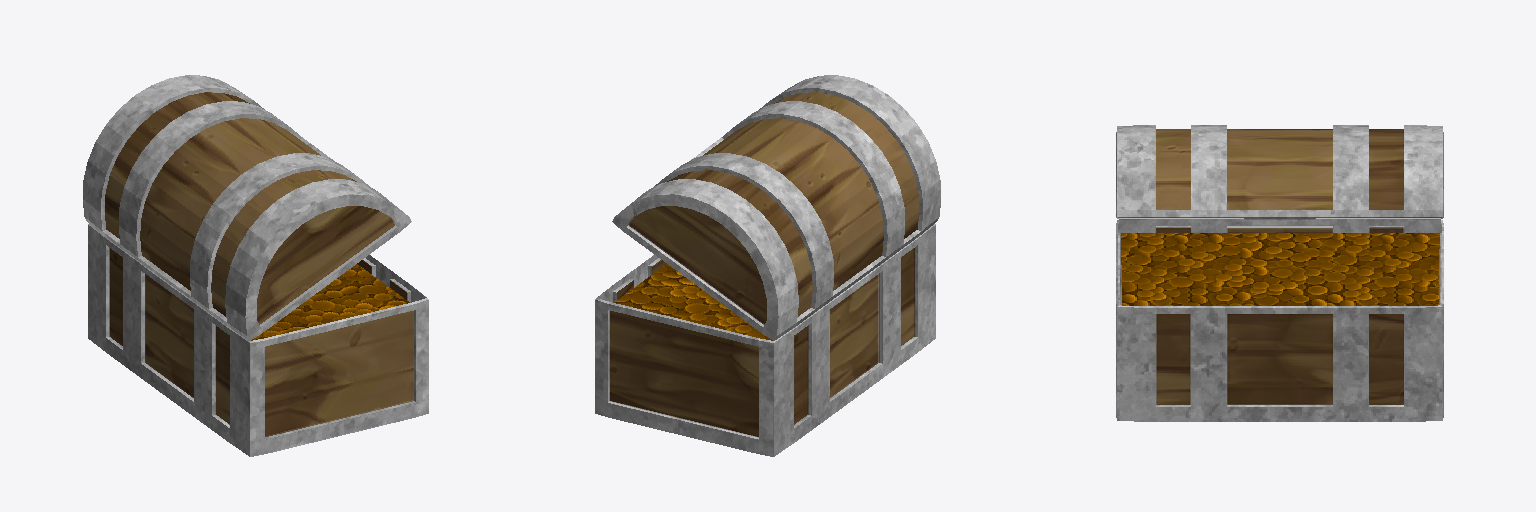
3 views of the same model, side by side, from view 1: azimuth 30°, elevation 25°; view 2: azimuth 150°, elevation 25°; view 3: azimuth 270°, elevation 25° (orthographic).
Parts seen in each view (by area): view 1: Top, Bottom, Gold; view 2: Top, Bottom, Gold; view 3: Bottom, Top, Gold.
Part boxes in pixels (left/top/right/bottom): Top: left=83, top=75, right=411, bottom=340; Bottom: left=88, top=224, right=428, bottom=456; Gold: left=251, top=264, right=409, bottom=340; Top: left=612, top=75, right=940, bottom=340; Bottom: left=595, top=224, right=935, bottom=456; Gold: left=614, top=264, right=772, bottom=340; Bottom: left=1116, top=219, right=1443, bottom=421; Top: left=1116, top=125, right=1443, bottom=218; Gold: left=1121, top=233, right=1439, bottom=305.
Bounding box in the file's own units: 2.13 × 2.63 × 3.25.
Materials: 1 (1 with a texture image).